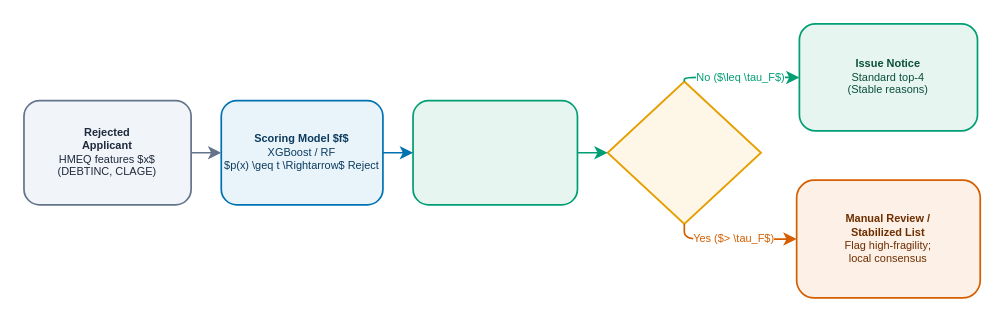
Image size: 1006x323. Some labels were removed from this diagram. The shapes that lost their labels are listed below. From the top down, each one's centre as x and y in pixels, then its label:
At point 495,152: "Local Explainer TreeSHAP / LIME Top-4 $T_4(x)$".
At point 683,152: "Fragility Gate $F(x) > \tau_F$ ?".
